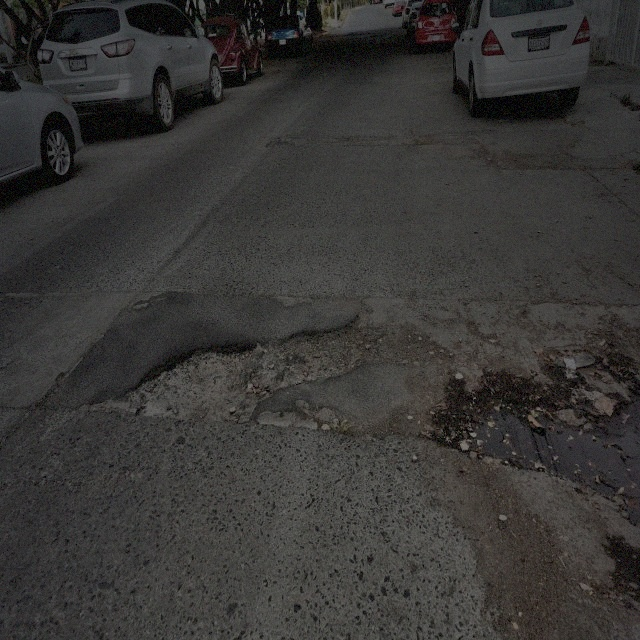pothole: (107, 306, 367, 432), (373, 320, 447, 364), (500, 150, 577, 172), (327, 138, 355, 149), (416, 137, 439, 146), (271, 136, 291, 146)
